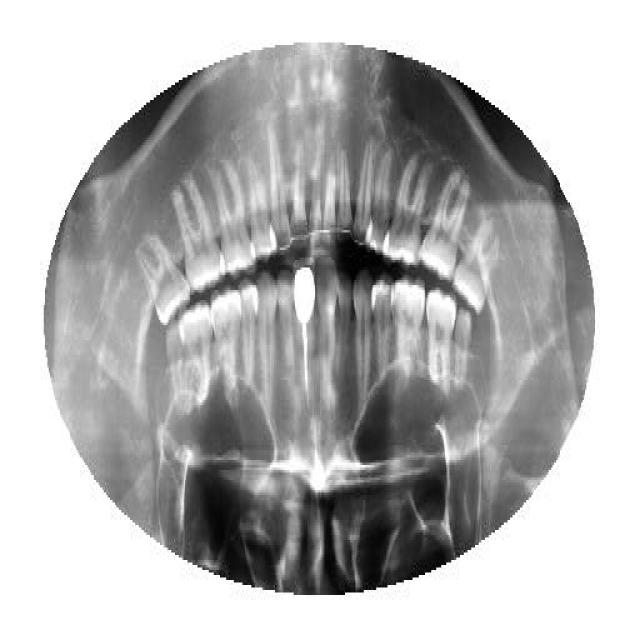Implant: (292, 265, 318, 400)
